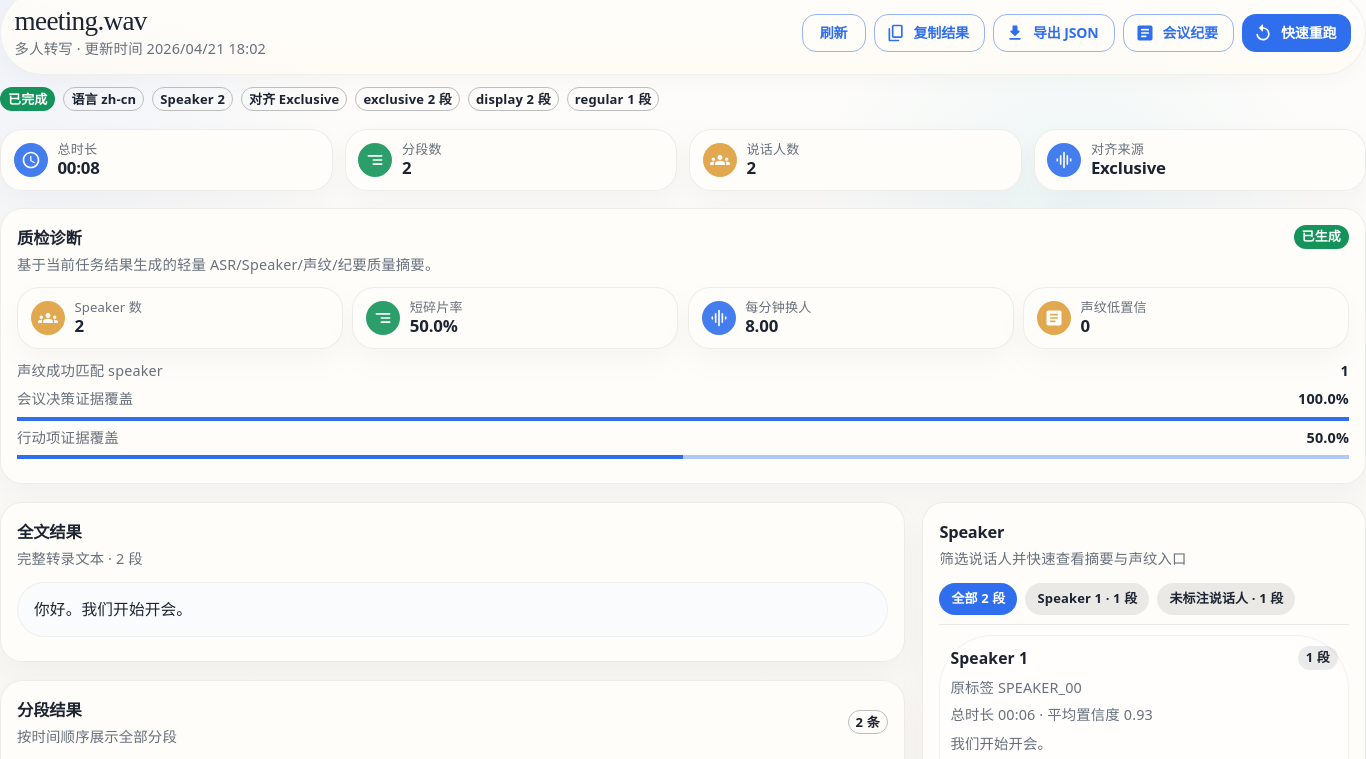
Test: JobDetailPage › supports filtering segments by speaker in review workspace
This screenshot has width=1366, height=759.
Expected: the element with test id "quality-diagnostics-card" is shown, [0, 208, 1365, 484]
Expected: the heading "质检诊断" is shown, [17, 227, 82, 249]
Click the button "Speaker 1 · 1 段".
click(1087, 598)  # box [1026, 582, 1149, 614]
(page scrolled)
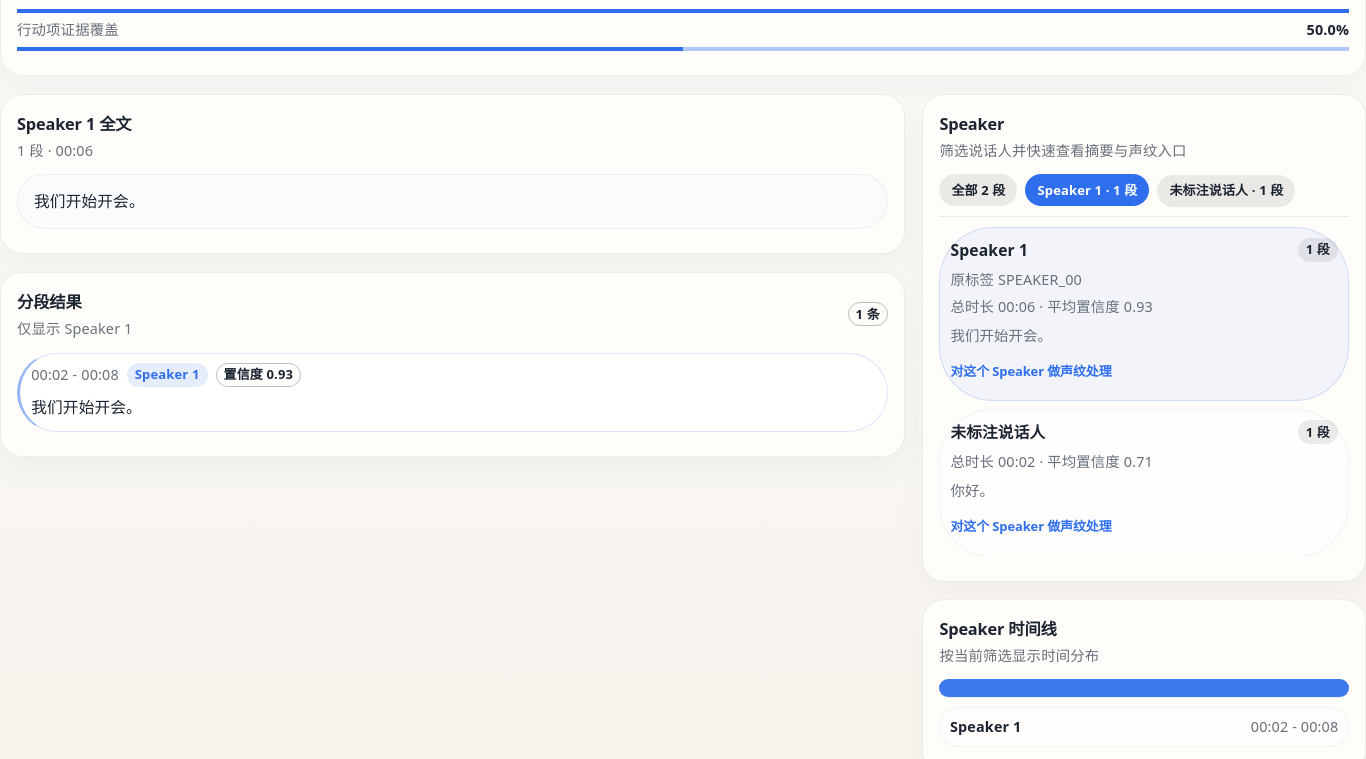
Expected: the 2nd text "Speaker 1" is shown, [135, 365, 200, 383]
Now the heading "Speaker 1 全文" is shown, box [17, 111, 132, 137]
Now the number of elements with test id "speaker-timeline-row" is 1, box [939, 707, 1349, 747]
